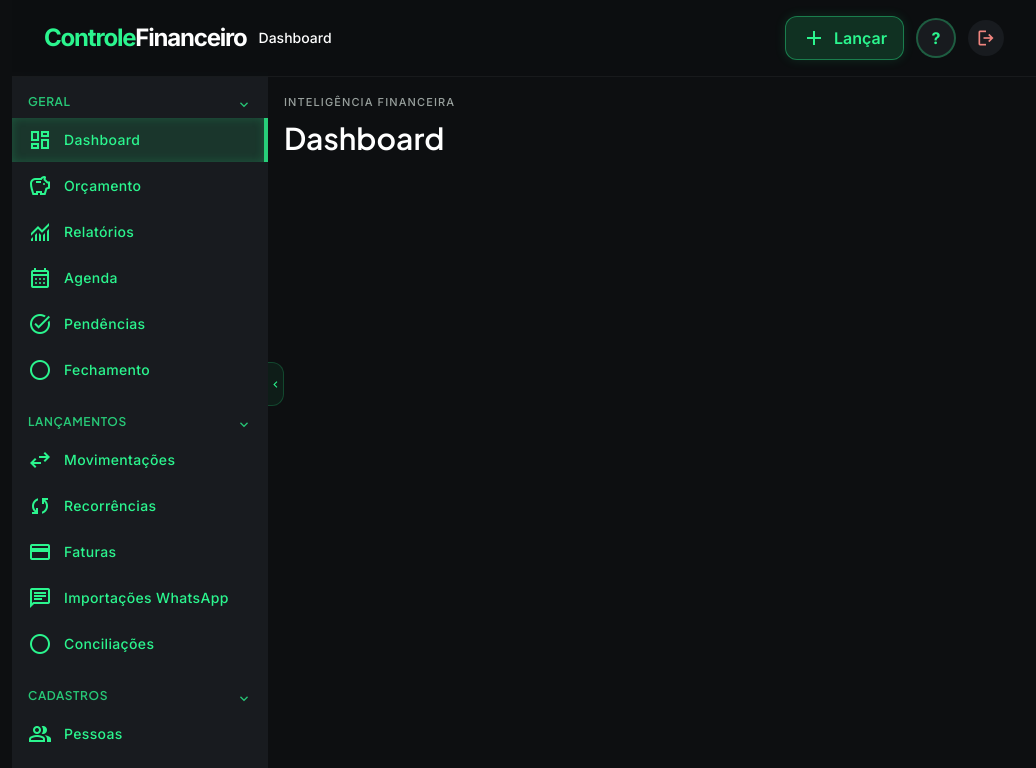
Scenario: NeonLedgerLayout › toggles sidebar to collapsed when toggle button is clicked
The width and height of the screenshot is (1036, 768).
# Initially expanded
Click the button named "Retrair menu".
click(276, 384)  # box x1=268 y1=362 x2=284 y2=406
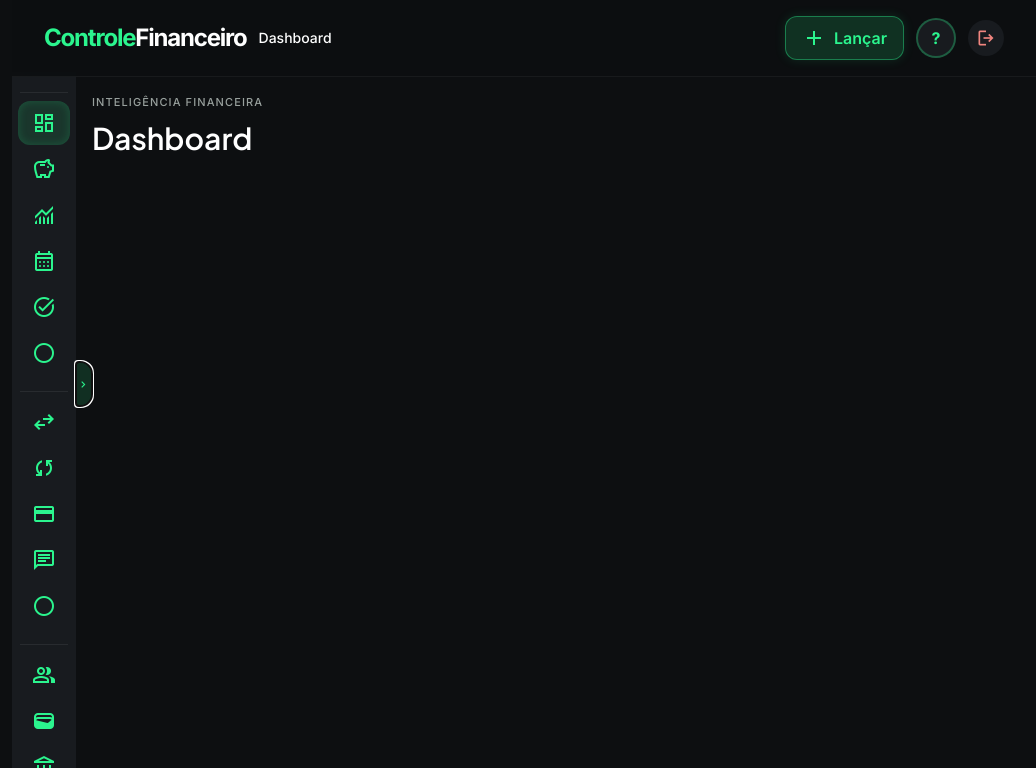
Now the button named "Expandir menu" is shown, box x1=76 y1=362 x2=92 y2=406
